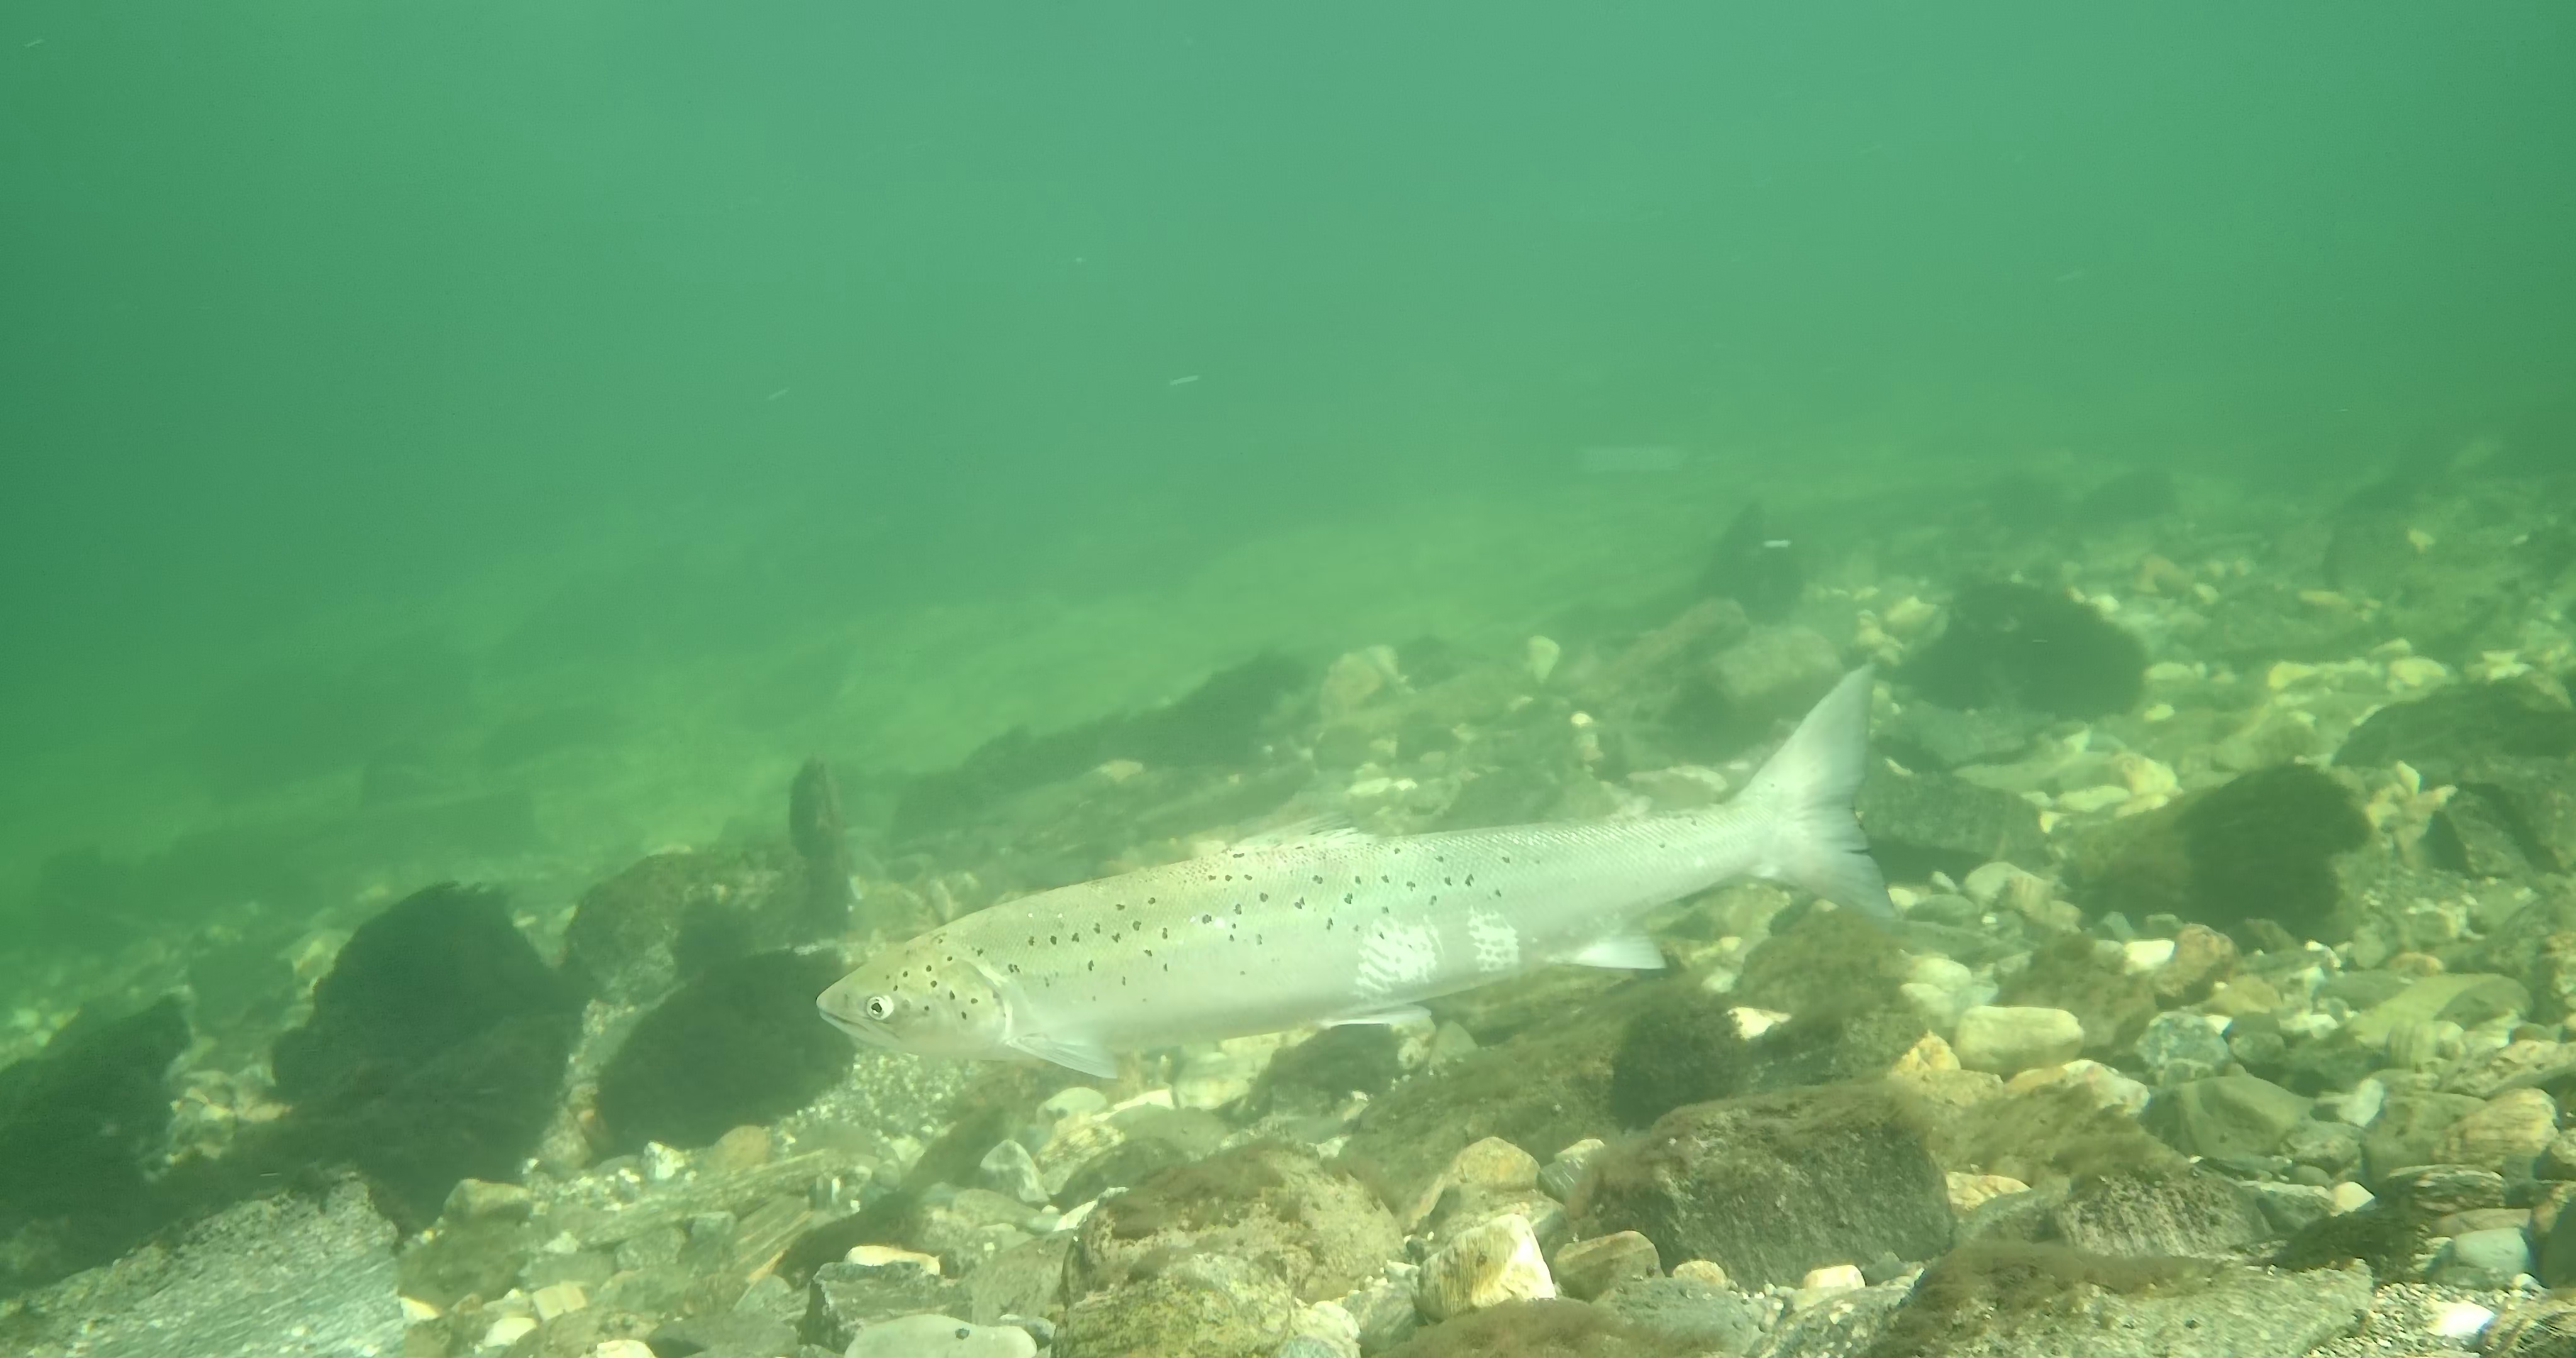salmon: (809, 658, 1903, 1084)
